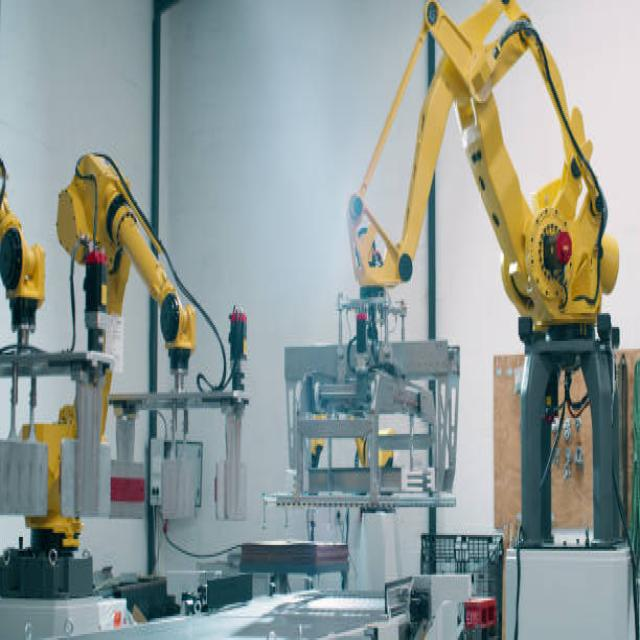Robotic-arm: (346, 2, 628, 331), (53, 126, 197, 389), (0, 152, 47, 349)
